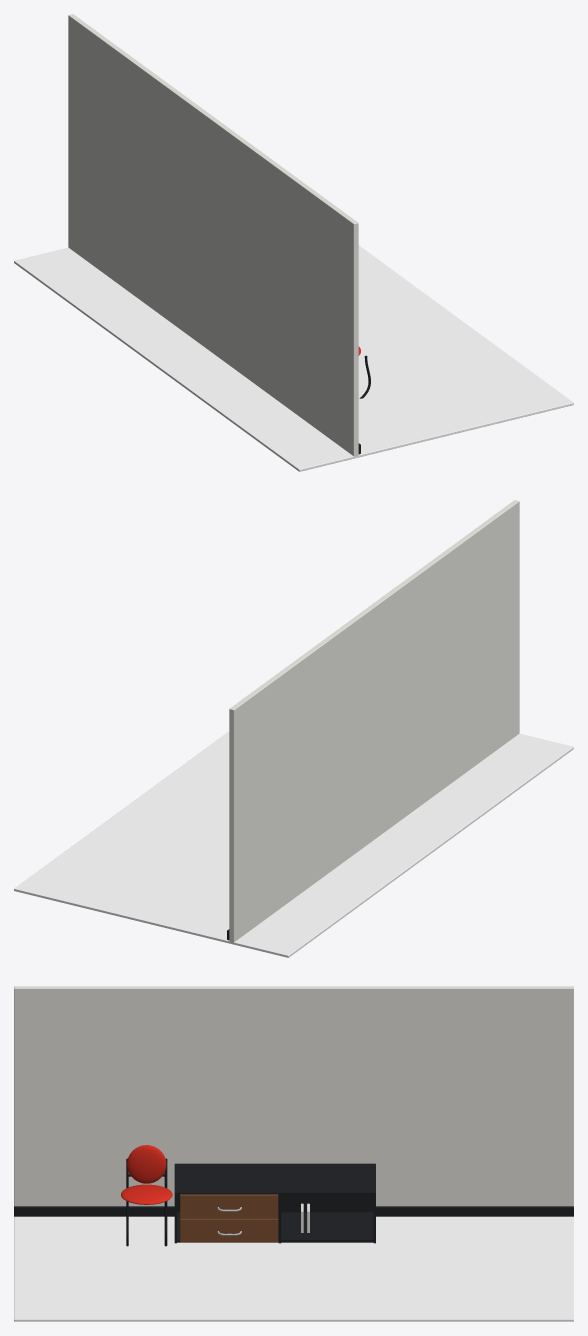
The picture shows the model from 3 angles, top to bottom: view 1: azimuth 30°, elevation 25°; view 2: azimuth 150°, elevation 25°; view 3: azimuth 270°, elevation 25°; orthographic projection.
Parts seen in each view (by area): view 1: source-local-wall, source-local-floor; view 2: source-local-wall, source-local-floor; view 3: source-local-wall, source-local-floor, sideboard-top, source-local-wall-base, sideboard-bottom, sideboard-observed-drawer-front.001, sideboard-observed-drawer-front, sideboard-back, chair-red-rounded-back, chair-red-rounded-seat.
Part boxes in pixels (<box>): source-local-wall: <box>68,14,358,456</box>; source-local-floor: <box>14,245,573,471</box>; source-local-wall: <box>229,500,519,943</box>; source-local-floor: <box>14,731,573,957</box>; source-local-wall: <box>14,986,573,1206</box>; source-local-floor: <box>14,1216,573,1321</box>; sideboard-top: <box>174,1163,375,1194</box>; source-local-wall-base: <box>14,1206,573,1216</box>; sideboard-bottom: <box>175,1212,375,1242</box>; sideboard-observed-drawer-front.001: <box>180,1218,278,1242</box>; sideboard-observed-drawer-front: <box>180,1194,278,1218</box>; sideboard-back: <box>177,1194,373,1212</box>; chair-red-rounded-back: <box>127,1145,166,1183</box>; chair-red-rounded-seat: <box>121,1184,172,1204</box>.
Bounding box in the file's own units: 3 × 2.49 × 5.4.
